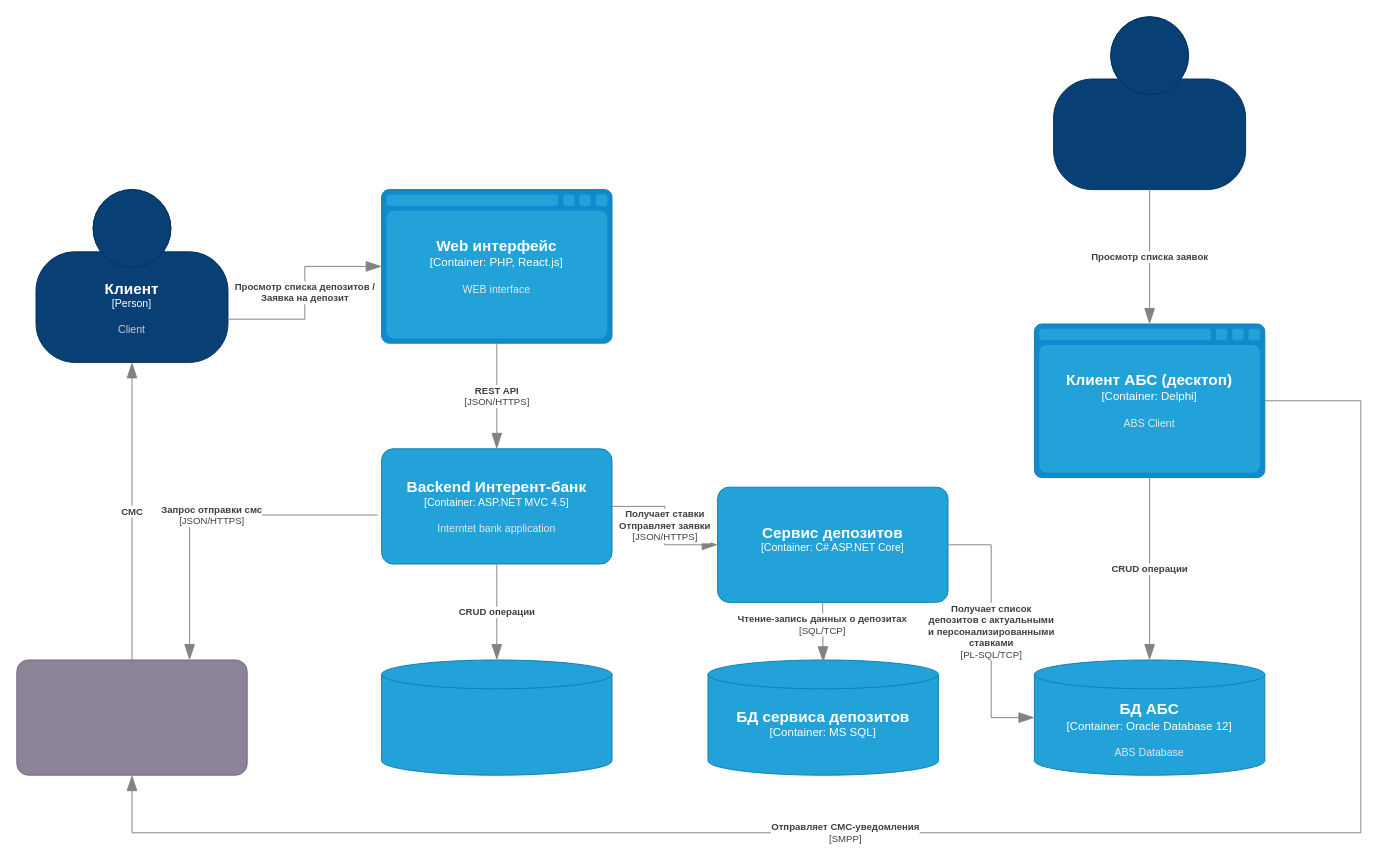
Some shapes in this 1393 by 865 pixel diagram are drawn without their labels. The centre of each missing label's shape, as x and y in pixels:
"БД интерент банка [Container: MS SQL] Internet bank database" goes at point (496, 717).
"Менеджер бэк-офиса [Person] Manager" goes at point (1149, 103).
"СМС-шлюз [Software System] SMS gateway" goes at point (131, 717).
